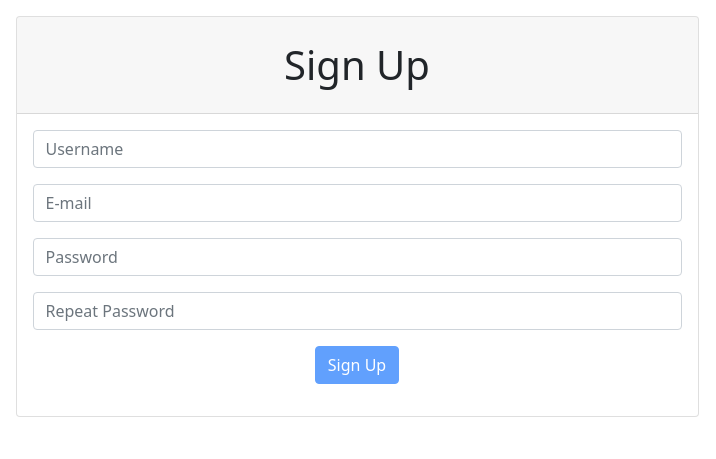
Sign Up Page › Interactions › displays Username cannot be null for $fields
Type "pepito1" into the field with placeholder "Username" at (357, 149), box left=32, top=130, right=682, bottom=168
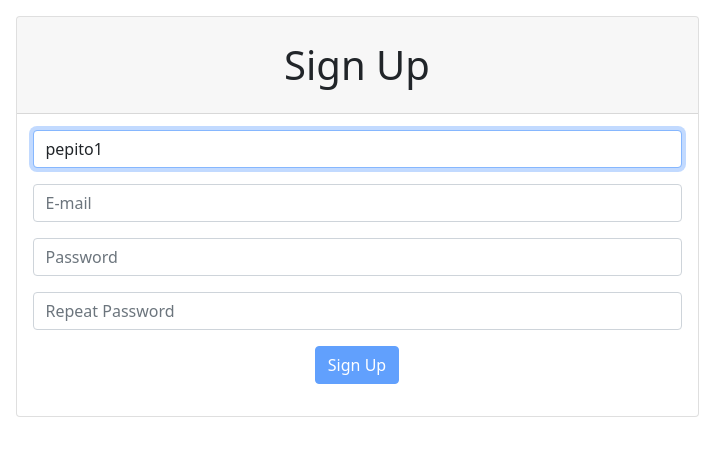
Type "pepito1@mail.com" into the field with placeholder "E-mail" at (357, 203), box left=32, top=184, right=682, bottom=222
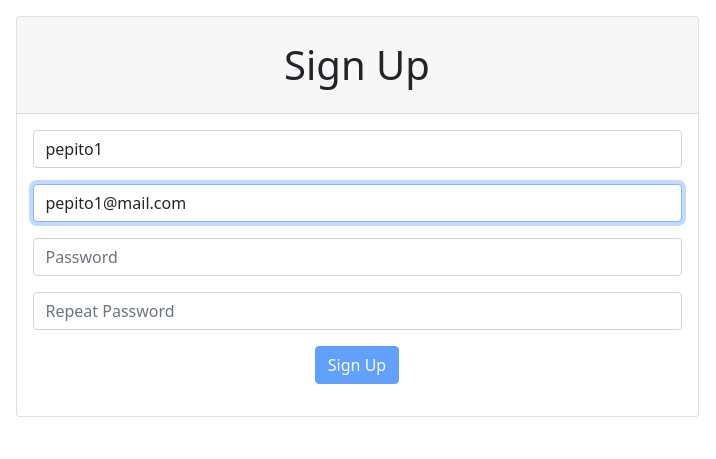
Type "p4ssword" into the password field with placeholder "Password" at (357, 257), box left=32, top=238, right=682, bottom=276
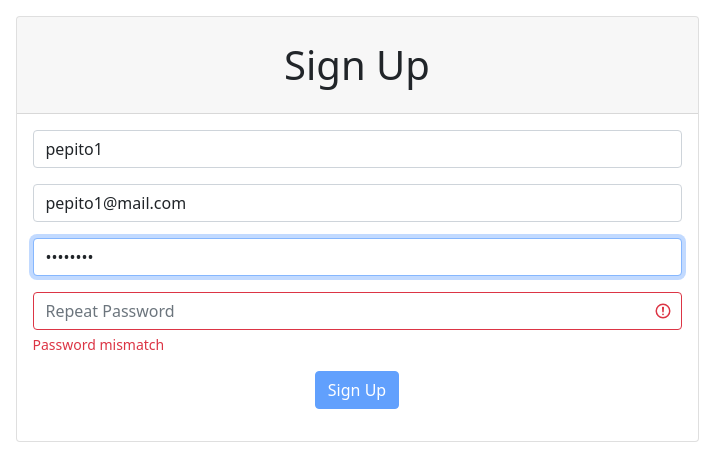
Type "p4ssword" into the password field with placeholder "Repeat Password" at (357, 311), box left=32, top=292, right=682, bottom=330
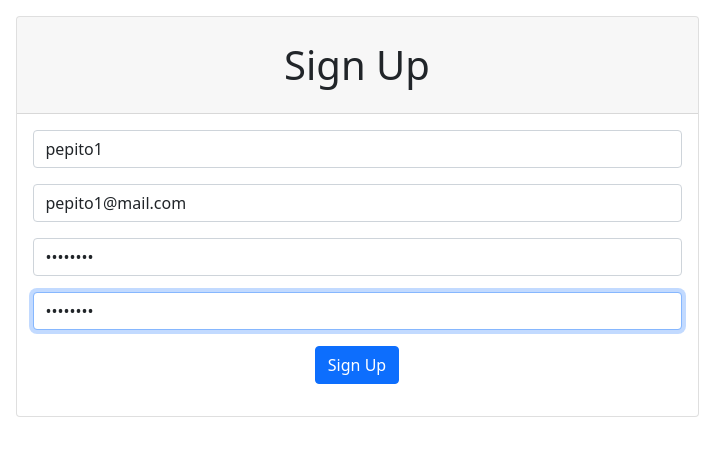
Click the button "Sign Up" at (357, 365), box left=315, top=346, right=399, bottom=384
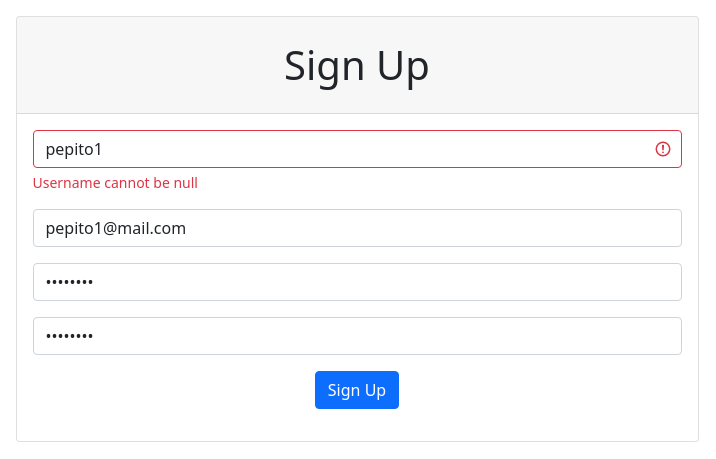
Expected: the text "Username cannot be null" is shown, left=32, top=173, right=198, bottom=192
